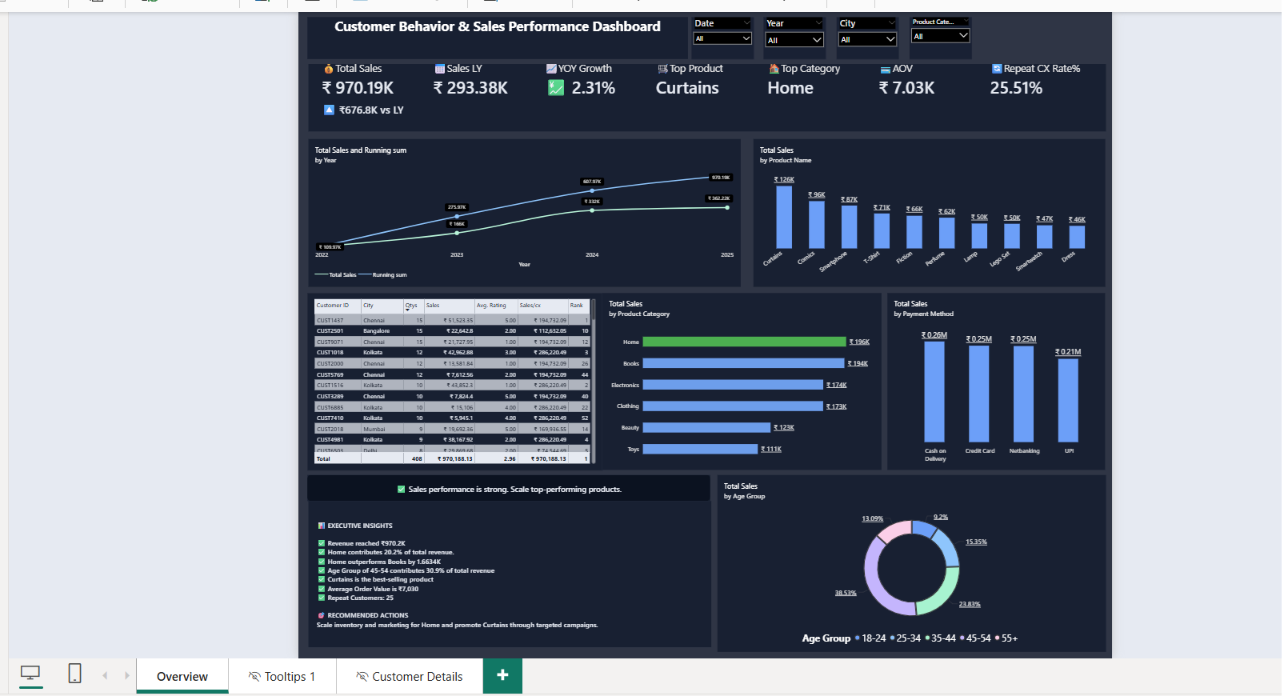

What the dashboard file says about the page in this screenshot:
{"tool":"powerbi","page":{"name":"Overview","canvas":[1950,1550],"ordinal":0},"visuals":[{"type":"textbox","box":[22.6,12.2,911.8,100.9],"z":0},{"type":"cardVisual","fields":{"Data":["Date Table.Total Sales","Date Table.Sales LY","Date Table.Growth Display","Date Table.Top Product","Date Table.Top Category","Date Table.AOV","Date Table.Repeat CX Rate%"]},"box":[23.4,124.1,1911.4,161.8],"z":1000},{"type":"clusteredColumnChart","fields":{"Category":["Sales Data.Product Name"],"Y":["Date Table.Total Sales"]},"box":[1091.5,303.9,843.3,354.2],"z":2000},{"type":"lineChart","fields":{"Category":["Date Table.Year","Date Table.Quarter","Date Table.Month","Sales Data.Order Date"],"Y":["Date Table.Total Sales","select"]},"box":[23.4,303.9,1035.7,354.2],"z":3000},{"type":"clusteredBarChart","fields":{"Category":["Sales Data.Product Category"],"Y":["Date Table.Total Sales"]},"box":[728.2,674.3,668.9,424.4],"z":4000},{"type":"slicer","fields":{"Values":["Date Table.Date"]},"box":[941.4,12.2,149.7,100.9],"z":5000},{"type":"slicer","fields":{"Values":["Date Table.Year"]},"box":[1115.4,12.2,149.7,100.9],"z":6000},{"type":"slicer","fields":{"Values":["Sales Data.City"]},"box":[1289.4,12.2,149.7,100.9],"z":7000},{"type":"slicer","fields":{"Values":["Sales Data.Product Category"]},"box":[1463.5,12.2,149.7,100.9],"z":8000},{"type":"cardVisual","fields":{"Data":["Date Table.Insight Title"]},"box":[22.6,1110.2,965.8,62.6],"z":9000},{"type":"clusteredColumnChart","fields":{"Category":["Sales Data.Payment Method"],"Y":["Date Table.Total Sales"]},"box":[1411.5,674.3,521.5,424.4],"z":11000},{"type":"donutChart","fields":{"Category":["Sales Data.Age Group"],"Y":["Date Table.Total Sales"]},"box":[1003.4,1109.5,931.4,424.4],"z":12000},{"type":"tableEx","fields":{"Values":["Sales Data.Customer ID","Sales Data.City","Date Table.Total Qty","Date Table.Total Sales","Avg(Sales Data.Rating)","Date Table.Sales/cx","Date Table.Customer Rank"]},"box":[22.6,673.4,706.5,424.6],"z":13000},{"type":"cardVisual","fields":{"Data":["Date Table.Insight Card"]},"box":[23.4,1172.4,965.6,350.6],"z":14000}]}

Visuals, with their boxes on the page's 1950x1550 design canvas (x1, y1, x2, y2). These are canvas units, not pixel positions in the 1282x696 screenshot, which may show the page scaled, cropped or inside an application window:
textbox: 23,12,934,113
cardVisual - Date Table.Total Sales x Date Table.Sales LY: 23,124,1935,286
clusteredColumnChart - Sales Data.Product Name x Date Table.Total Sales: 1092,304,1935,658
lineChart - Date Table.Year x Date Table.Quarter: 23,304,1059,658
clusteredBarChart - Sales Data.Product Category x Date Table.Total Sales: 728,674,1397,1099
slicer - Date Table.Date: 941,12,1091,113
slicer - Date Table.Year: 1115,12,1265,113
slicer - Sales Data.City: 1289,12,1439,113
slicer - Sales Data.Product Category: 1464,12,1613,113
cardVisual - Date Table.Insight Title: 23,1110,988,1173
clusteredColumnChart - Sales Data.Payment Method x Date Table.Total Sales: 1412,674,1933,1099
donutChart - Sales Data.Age Group x Date Table.Total Sales: 1003,1110,1935,1534
tableEx - Sales Data.Customer ID x Sales Data.City: 23,673,729,1098
cardVisual - Date Table.Insight Card: 23,1172,989,1523
